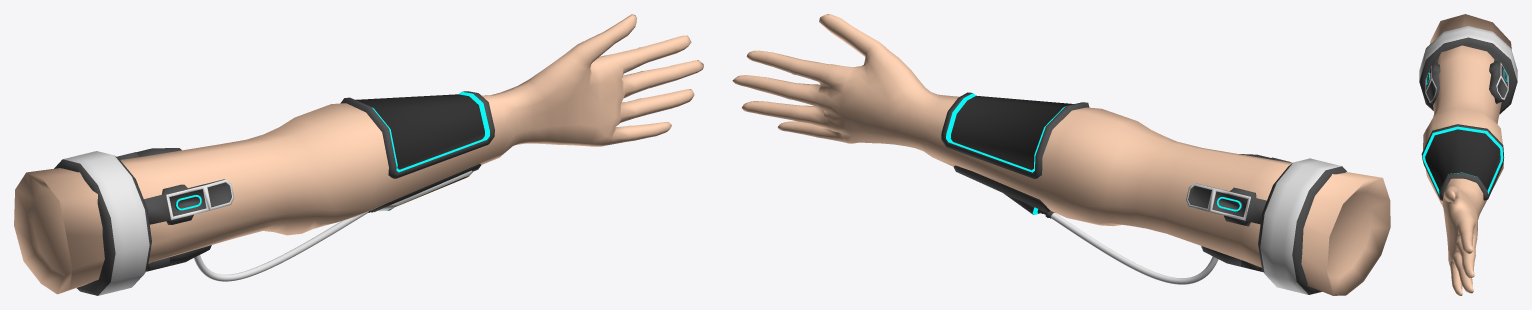
File: CD_Helios Frame.glb
3 renders of one model, left to right at view 1: azimuth 30°, elevation 25°; view 2: azimuth 150°, elevation 25°; view 3: azimuth 270°, elevation 25°, orthographic. The views are drawn at different scales.
Parts seen in each view (by area): view 1: BPN-08.002; view 2: BPN-08.002; view 3: BPN-08.002.
Boxes of the visible parts, bbox=[...] form: BPN-08.002: bbox=[14, 14, 703, 295]; BPN-08.002: bbox=[732, 14, 1390, 295]; BPN-08.002: bbox=[1419, 14, 1517, 295].
Bounding box in the file's own units: 0.5986 × 0.1566 × 0.1098.
